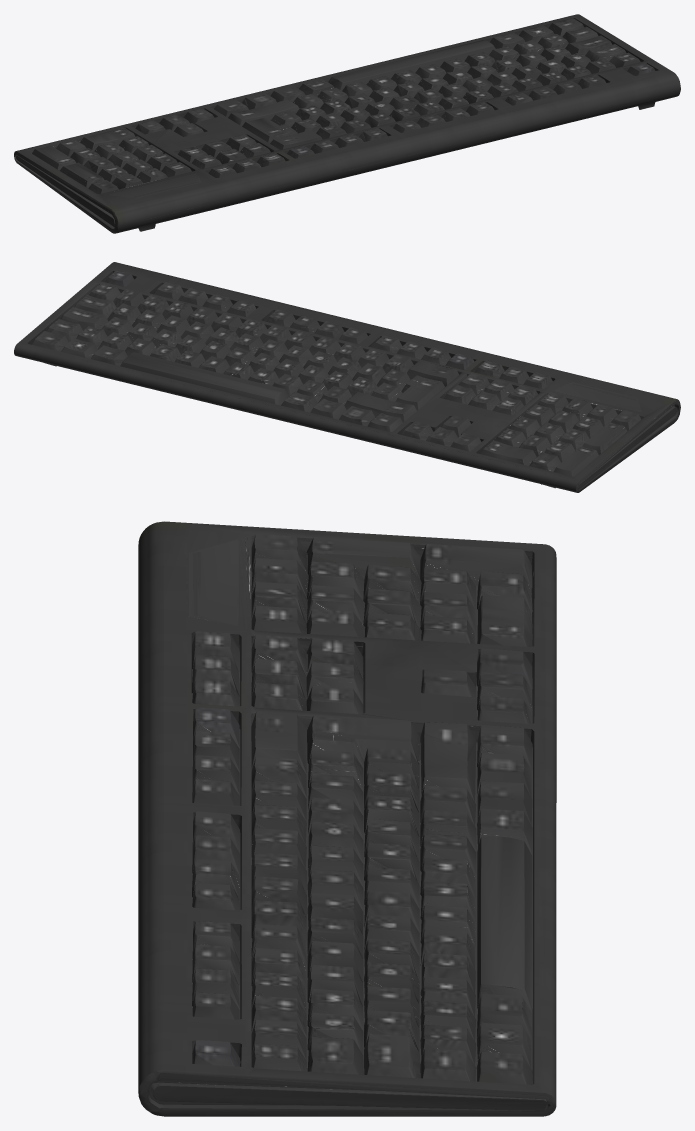
Rendered from simready-keyboard-computer.d41a5058.glb.
3 views of the same model, one above another, from view 1: azimuth 30°, elevation 25°; view 2: azimuth 150°, elevation 25°; view 3: azimuth 270°, elevation 25° (orthographic). The views are drawn at different scales.
Parts seen in each view (by area): view 1: model; view 2: model; view 3: model.
Boxes of the visible parts, left/top/right/bottom form: model: left=14, top=14, right=680, bottom=233; model: left=14, top=262, right=680, bottom=492; model: left=138, top=521, right=556, bottom=1116.
Size of the model in its own units: 0.442 by 0.0202 by 0.1419.
Materials: 1 (1 with a texture image).
